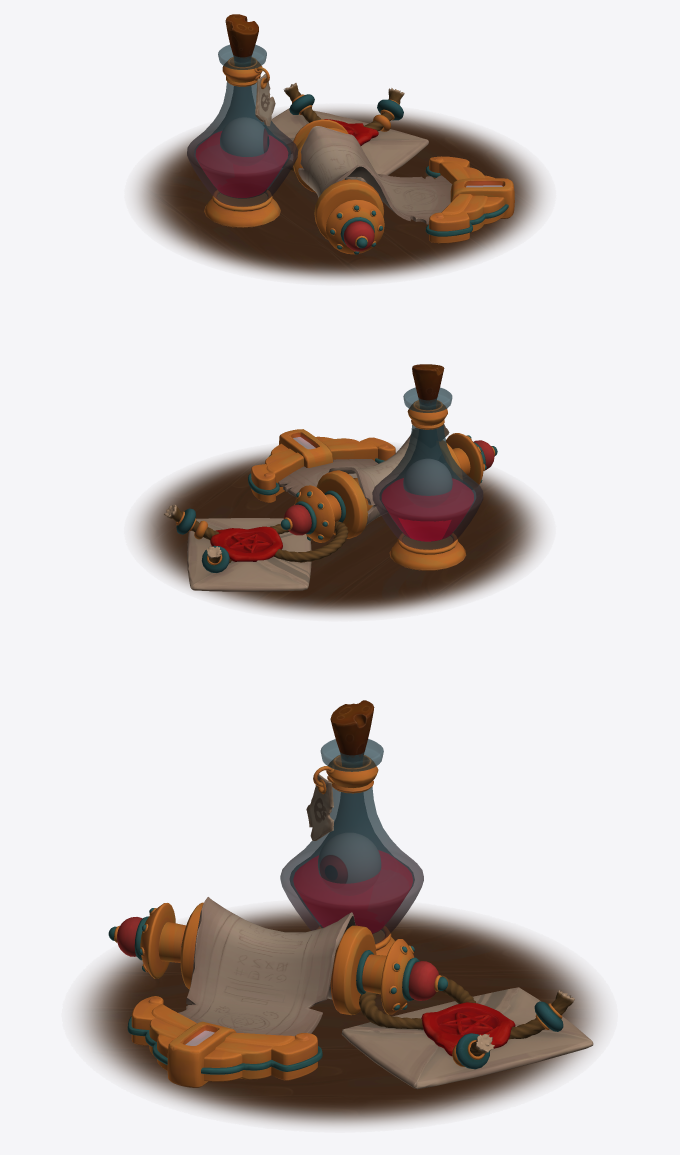
The picture shows the model from 3 angles, top to bottom: view 1: azimuth 30°, elevation 25°; view 2: azimuth 150°, elevation 25°; view 3: azimuth 270°, elevation 25°; orthographic projection. The views are drawn at different scales.
Parts seen in each view (by area): view 1: pCube24, scroll_ao_3, bottle_ao1, envelope_ao1; view 2: pCube24, scroll_ao_3, bottle_ao1, envelope_ao1; view 3: pCube24, scroll_ao_3, bottle_ao1, envelope_ao1.
Part boxes in pixels (x1,y1,x2,y2): pCube24: (137, 108, 543, 280); scroll_ao_3: (292, 119, 514, 254); bottle_ao1: (187, 14, 298, 227); envelope_ao1: (266, 83, 428, 183); pCube24: (136, 448, 543, 615); scroll_ao_3: (248, 429, 497, 542); bottle_ao1: (372, 364, 483, 570); envelope_ao1: (163, 504, 348, 591); pCube24: (77, 906, 601, 1125); scroll_ao_3: (108, 897, 447, 1087); bottle_ao1: (280, 700, 423, 955); envelope_ao1: (341, 974, 593, 1089).
Size of the model in its own units: 14.06 by 6.57 by 15.43.
11 materials, 9 textured.
